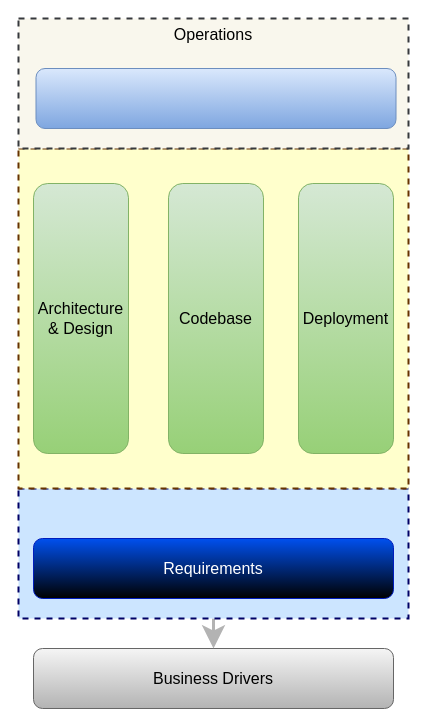
The diagram is 426 pixels wide and 726 high, and some of its shapes have lost their labels. Each missing label, with the box of its shape:
Engineering: (17, 147, 409, 489)
Product Management / Business Analysis: (17, 487, 409, 619)
Working Software: (35, 68, 396, 128)
